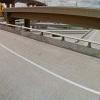Bridge: (6, 3, 91, 42)
